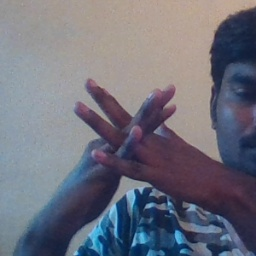W: (60, 67, 192, 203)
